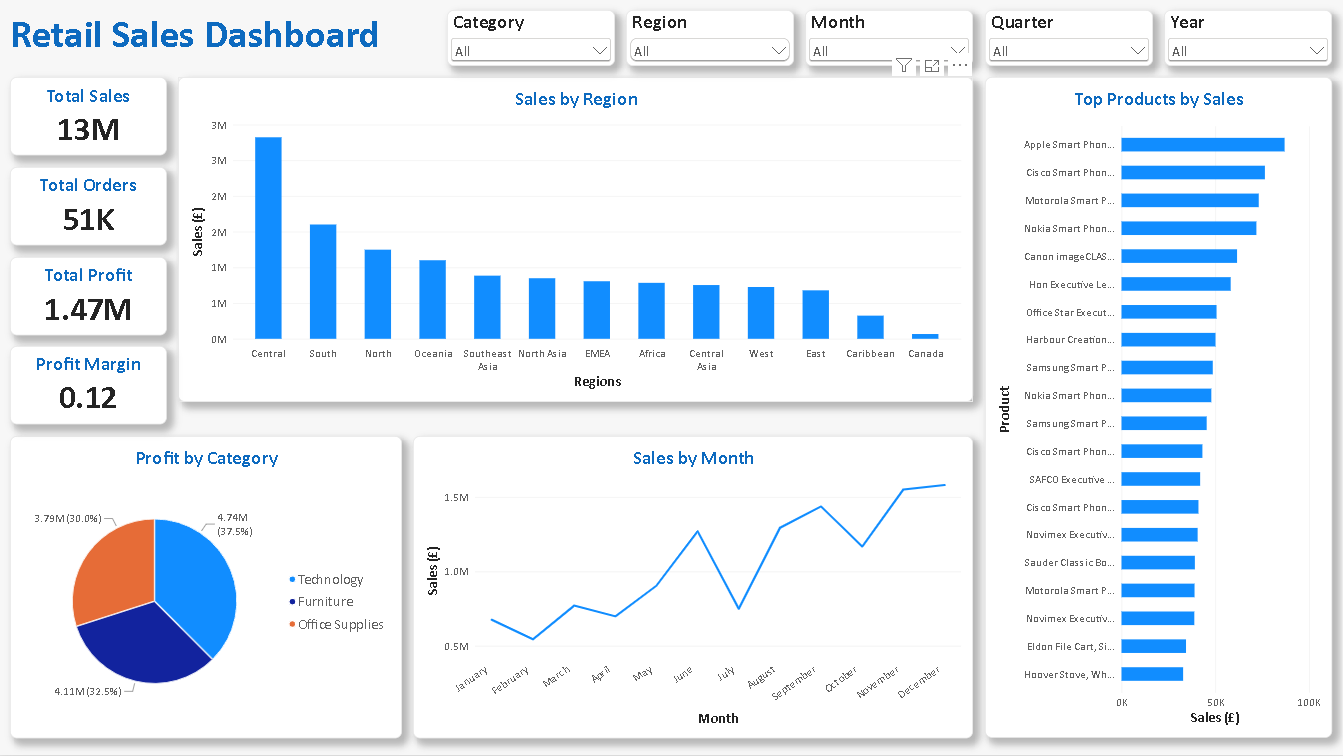

This screenshot's page, from the dashboard's own definition file:
{"tool":"powerbi","page":{"name":"Page 1","canvas":[1920,1080],"ordinal":0},"visuals":[{"type":"textbox","box":[16,16,544,96],"z":0},{"type":"cardVisual","fields":{"Data":["cleaned_sales_data.Total Sales"]},"box":[0,192,288,192],"z":1000},{"type":"cardVisual","fields":{"Data":["cleaned_sales_data.Total Orders"]},"box":[0,384,288,192],"z":2000},{"type":"cardVisual","fields":{"Data":["cleaned_sales_data.Total Profit"]},"box":[0,576,288,192],"z":3000},{"type":"cardVisual","fields":{"Data":["cleaned_sales_data.Profit Margin"]},"box":[0,768,288,192],"z":4000},{"type":"slicer","fields":{"Values":["cleaned_sales_data.year"]},"box":[1440,16,288,80],"z":5000},{"type":"slicer","fields":{"Values":["cleaned_sales_data.month_name"]},"box":[672,16,288,80],"z":6000},{"type":"slicer","fields":{"Values":["cleaned_sales_data.quarter"]},"box":[1056,16,288,80],"z":7000},{"type":"columnChart","title":"Sales by Region","fields":{"Y":["CountNonNull(cleaned_sales_data.sales)"],"Category":["cleaned_sales_data.region"]},"box":[304,112,928,448],"z":8000},{"type":"columnChart","title":"Top Products by Sales","fields":{"Category":["cleaned_sales_data.product_name"],"Y":["CountNonNull(cleaned_sales_data.sales)"]},"box":[304,592,928,448],"z":9000},{"type":"pieChart","title":"Profit by Category","fields":{"Y":["CountNonNull(cleaned_sales_data.profit)"],"Category":["cleaned_sales_data.category"]},"box":[1264,112,640,448],"z":10000},{"type":"lineChart","title":"Sales by Month","fields":{"Y":["CountNonNull(cleaned_sales_data.sales)"],"Category":["cleaned_sales_data.month_name"]},"box":[1264,592,640,448],"z":11000}]}

Visuals, with their boxes in screenshot pixels (x1, y1, x2, y2), scaled from the page's 1920x1080 canvas onto the 1343x756 screenshot:
textbox: select_region(11, 11, 392, 78)
cardVisual - cleaned_sales_data.Total Sales: select_region(0, 134, 201, 269)
cardVisual - cleaned_sales_data.Total Orders: select_region(0, 269, 201, 403)
cardVisual - cleaned_sales_data.Total Profit: select_region(0, 403, 201, 538)
cardVisual - cleaned_sales_data.Profit Margin: select_region(0, 538, 201, 672)
slicer - cleaned_sales_data.year: select_region(1007, 11, 1209, 67)
slicer - cleaned_sales_data.month_name: select_region(470, 11, 672, 67)
slicer - cleaned_sales_data.quarter: select_region(739, 11, 940, 67)
"Sales by Region" columnChart: select_region(213, 78, 862, 392)
"Top Products by Sales" columnChart: select_region(213, 414, 862, 728)
"Profit by Category" pieChart: select_region(884, 78, 1332, 392)
"Sales by Month" lineChart: select_region(884, 414, 1332, 728)
